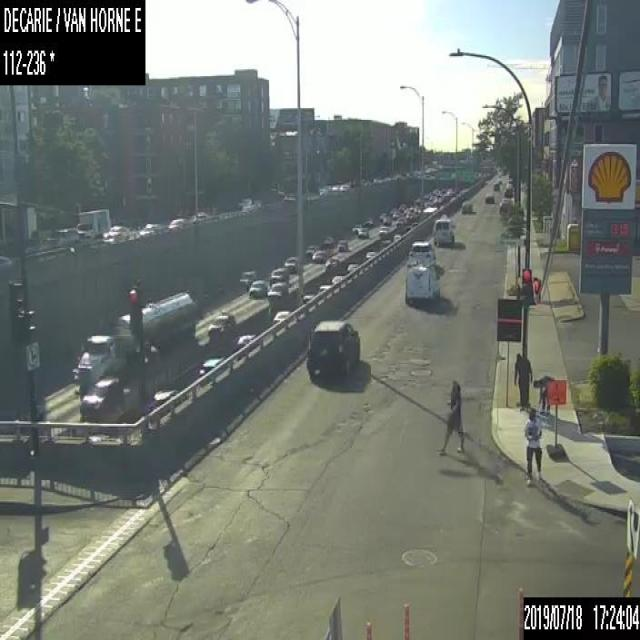construction: (544, 378, 566, 456), (516, 586, 524, 638), (402, 598, 410, 638), (364, 620, 372, 639)
pedestrian: (439, 377, 463, 455), (522, 407, 544, 480), (512, 350, 532, 410), (532, 374, 555, 413)
vehicle: (72, 292, 196, 392), (306, 317, 361, 376), (79, 373, 120, 415), (405, 257, 440, 304), (75, 207, 109, 237), (405, 238, 436, 264), (208, 311, 236, 337), (432, 213, 454, 245), (148, 388, 176, 413), (233, 329, 261, 352), (198, 354, 224, 376), (324, 251, 348, 269), (266, 280, 288, 298), (166, 215, 188, 232), (272, 308, 292, 325), (269, 266, 289, 283), (248, 279, 266, 297), (101, 231, 121, 245), (108, 225, 129, 238), (284, 256, 298, 274), (142, 222, 162, 234), (239, 269, 254, 284), (311, 250, 327, 263), (237, 195, 252, 208), (305, 245, 318, 257), (422, 206, 436, 217), (302, 292, 314, 304), (364, 248, 376, 260), (461, 200, 472, 213), (378, 239, 391, 250), (336, 238, 347, 250), (321, 235, 333, 246), (331, 274, 343, 284), (377, 225, 388, 235), (351, 222, 361, 233), (358, 226, 368, 237), (346, 262, 357, 272), (0, 255, 11, 264), (485, 191, 494, 202), (318, 183, 329, 192), (503, 185, 512, 196), (318, 283, 330, 291), (363, 217, 373, 226), (382, 214, 390, 224), (398, 203, 406, 211), (392, 232, 400, 240), (378, 211, 386, 219), (392, 210, 399, 219), (339, 183, 348, 190), (331, 183, 338, 190), (494, 182, 498, 190), (498, 178, 502, 184)
